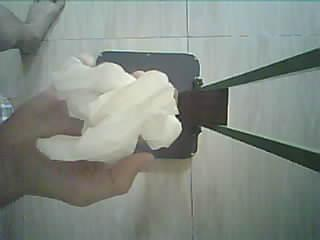paper: (38, 57, 182, 162)
